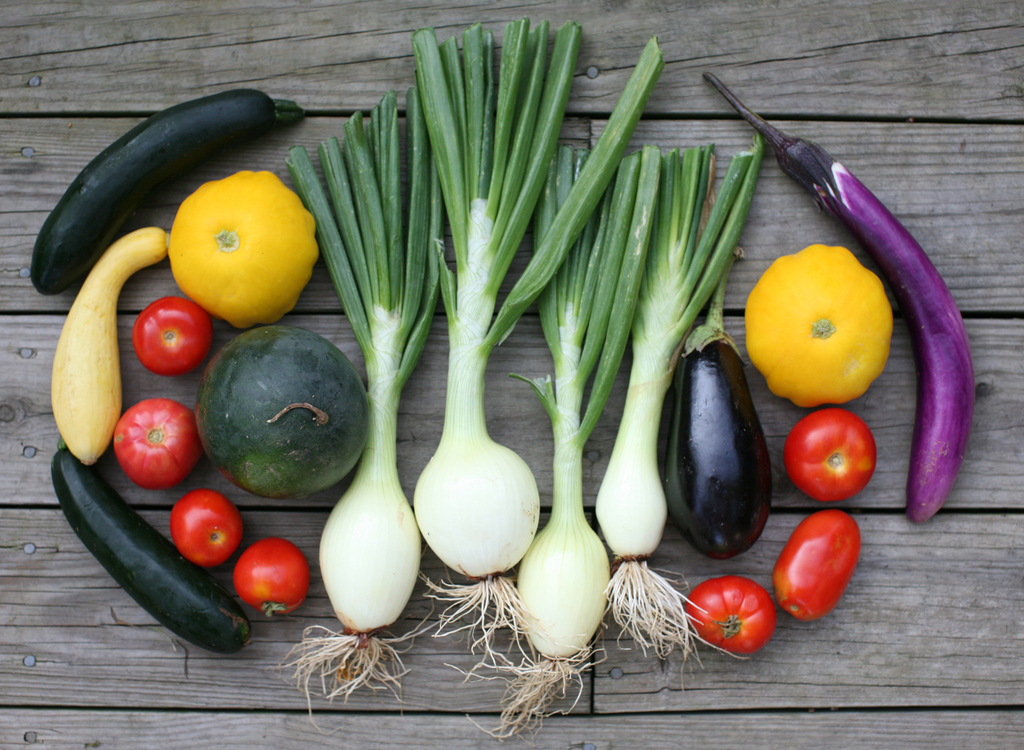Tomato: (769, 507, 860, 621), (786, 407, 875, 506), (677, 580, 770, 655), (128, 293, 210, 376), (113, 399, 194, 481), (230, 532, 307, 616), (169, 491, 240, 562)
